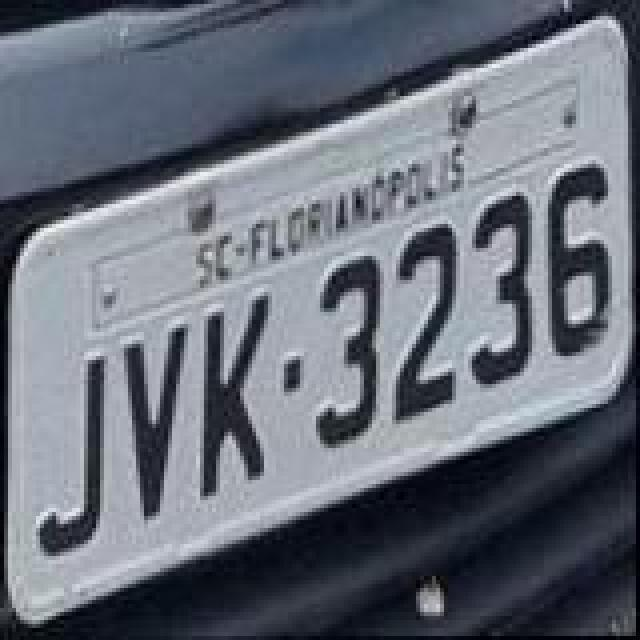2: (394, 222, 458, 430)
3: (316, 250, 384, 450), (470, 194, 534, 394)
6: (544, 164, 612, 372)
J: (38, 350, 110, 562)
K: (202, 288, 274, 500)
V: (122, 322, 194, 526)
